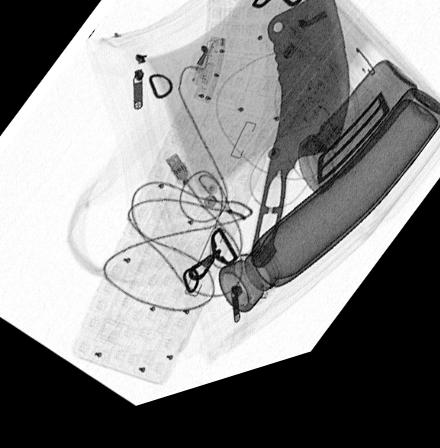Knife: (249, 2, 353, 286)
